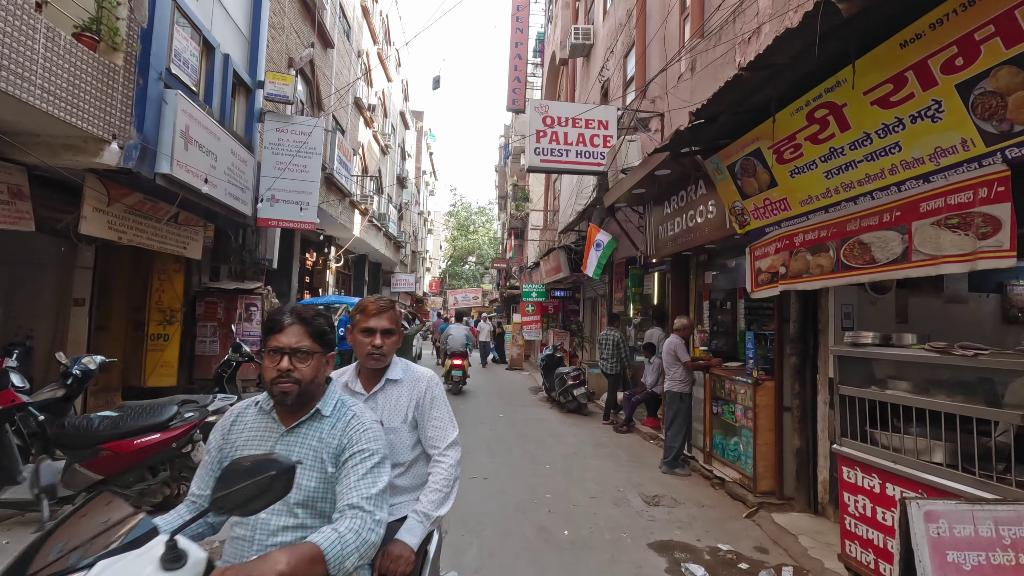garbage: (677, 563, 709, 576), (759, 564, 793, 576)
